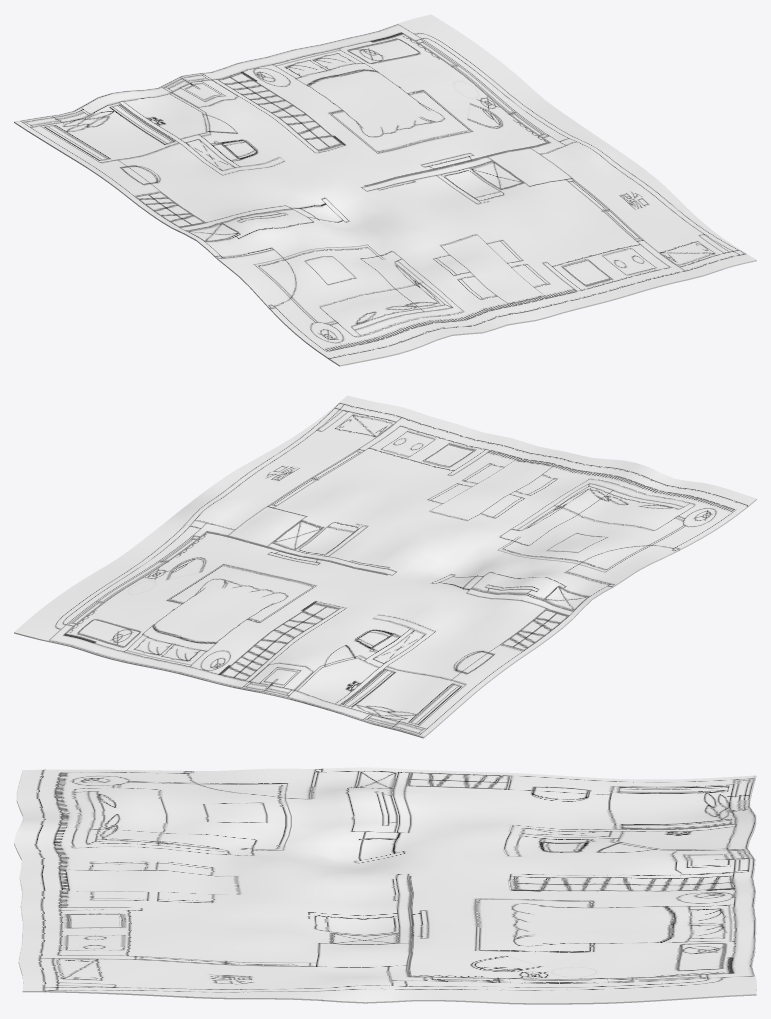
Rendered from 設計圖2.fbx.
The picture shows the model from 3 angles, top to bottom: view 1: azimuth 30°, elevation 25°; view 2: azimuth 150°, elevation 25°; view 3: azimuth 270°, elevation 25°; orthographic projection. The views are drawn at different scales.
Parts seen in each view (by area): view 1: Plane001; view 2: Plane001; view 3: Plane001.
Boxes of the visible parts, box(x1,y1,x2,y2) form: Plane001: box(14, 14, 756, 366); Plane001: box(14, 395, 756, 738); Plane001: box(14, 767, 756, 1004).
Size of the model in its own units: 218 by 9.14 by 294.
1 material, 1 textured.
